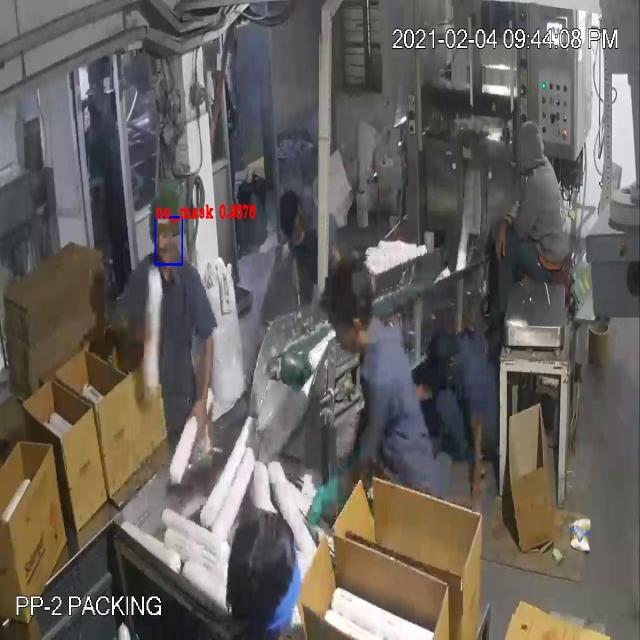gloves: (298, 465, 360, 537)
no-gloves: (177, 302, 227, 446), (483, 202, 513, 264)
